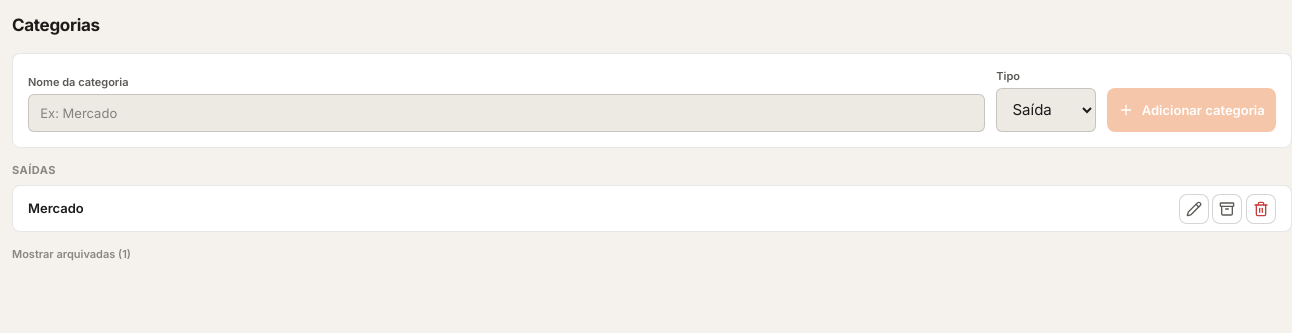
Test: FinanceCategoryManager › hides archived categories until the toggle is used
Check: the text "Antiga" is not shown
Click the button "Mostrar arquivadas (1)". click: x=72, y=254
box: [12, 247, 131, 262]
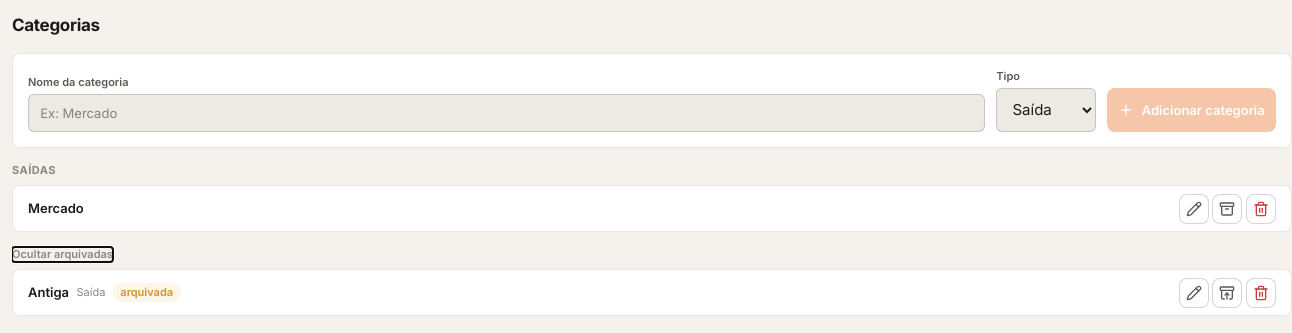
Check: the text "arquivada" is shown, box [113, 284, 181, 302]
Check: the text "Saída" is shown, box [76, 285, 105, 300]
Click the button "Ocultar arquivadas". click: x=62, y=254
box: [12, 247, 113, 262]
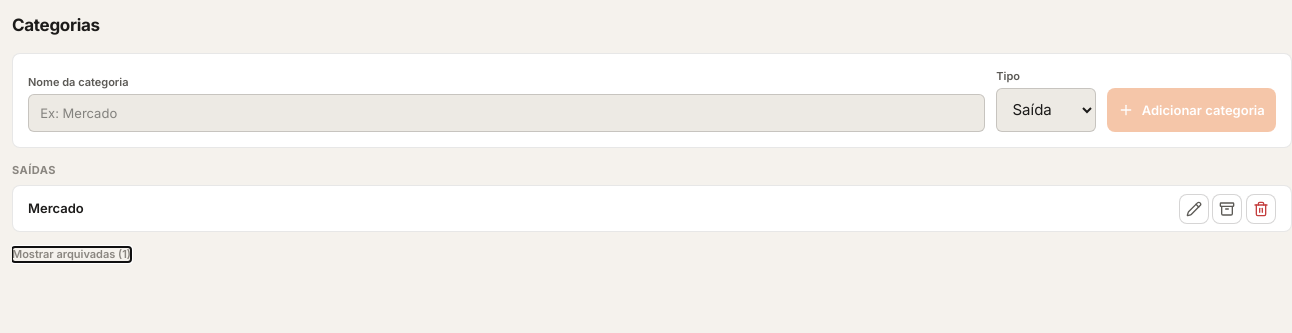
Check: the text "Antiga" is gone
